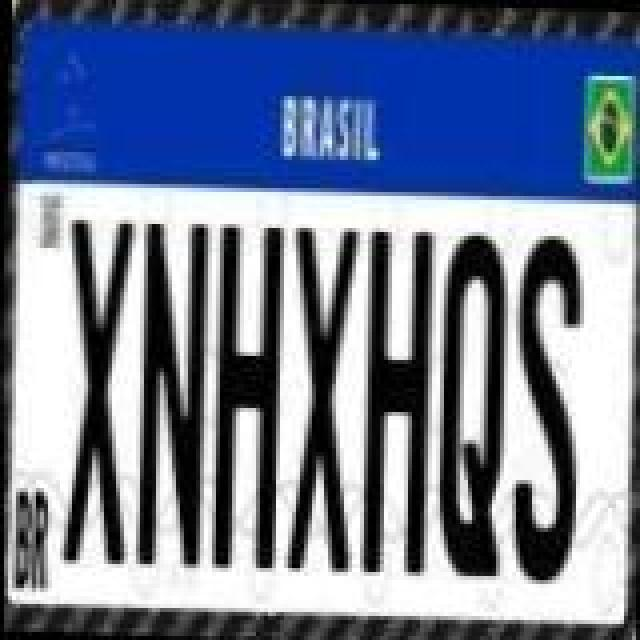H: (356, 224, 436, 580), (208, 222, 288, 574)
N: (128, 218, 208, 570)
Q: (432, 230, 512, 582)
S: (502, 226, 586, 582)
X: (56, 216, 136, 568), (280, 226, 360, 574)
